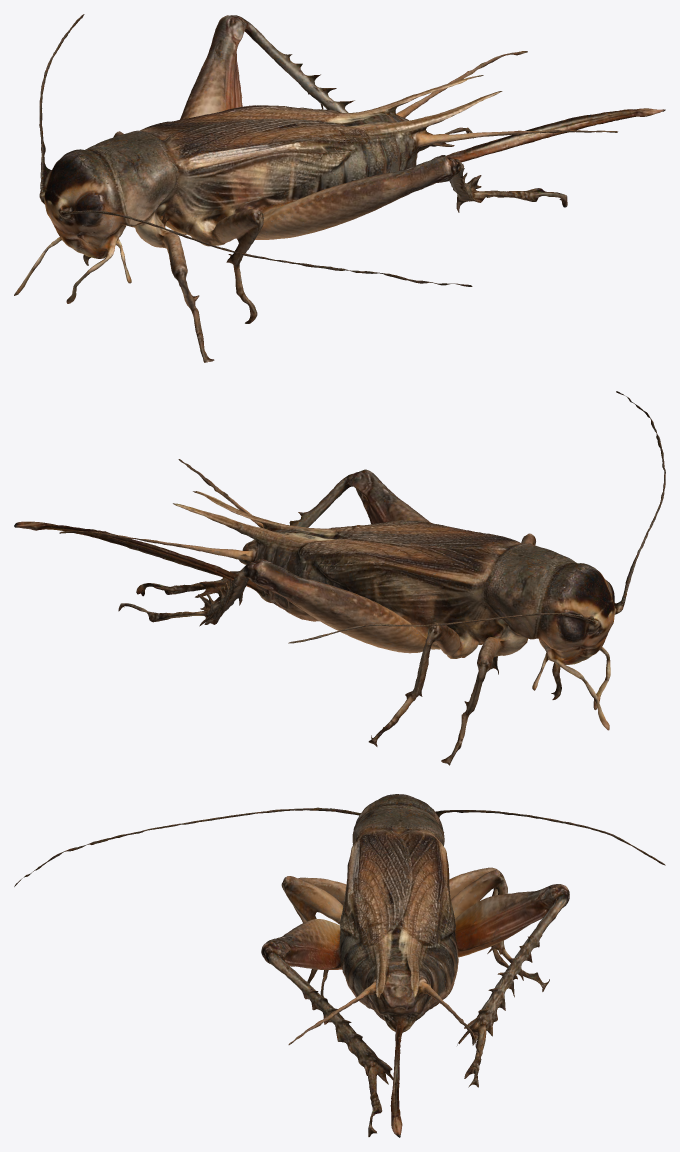
Rendered from Cricket_Static_Full.fbx.
3 views of the same model, one above another, from view 1: azimuth 30°, elevation 25°; view 2: azimuth 150°, elevation 25°; view 3: azimuth 270°, elevation 25° (orthographic). The views are drawn at different scales.
Parts seen in each view (by area): view 1: Cricket_Static_Full; view 2: Cricket_Static_Full; view 3: Cricket_Static_Full.
Boxes of the visible parts, box(x1,y1,x2,y2) form: Cricket_Static_Full: box(14, 14, 665, 362); Cricket_Static_Full: box(14, 391, 665, 765); Cricket_Static_Full: box(14, 794, 665, 1137).
Bounding box in the file's own units: 0.07 × 0.0217 × 0.0697.
1 material, 1 textured.
